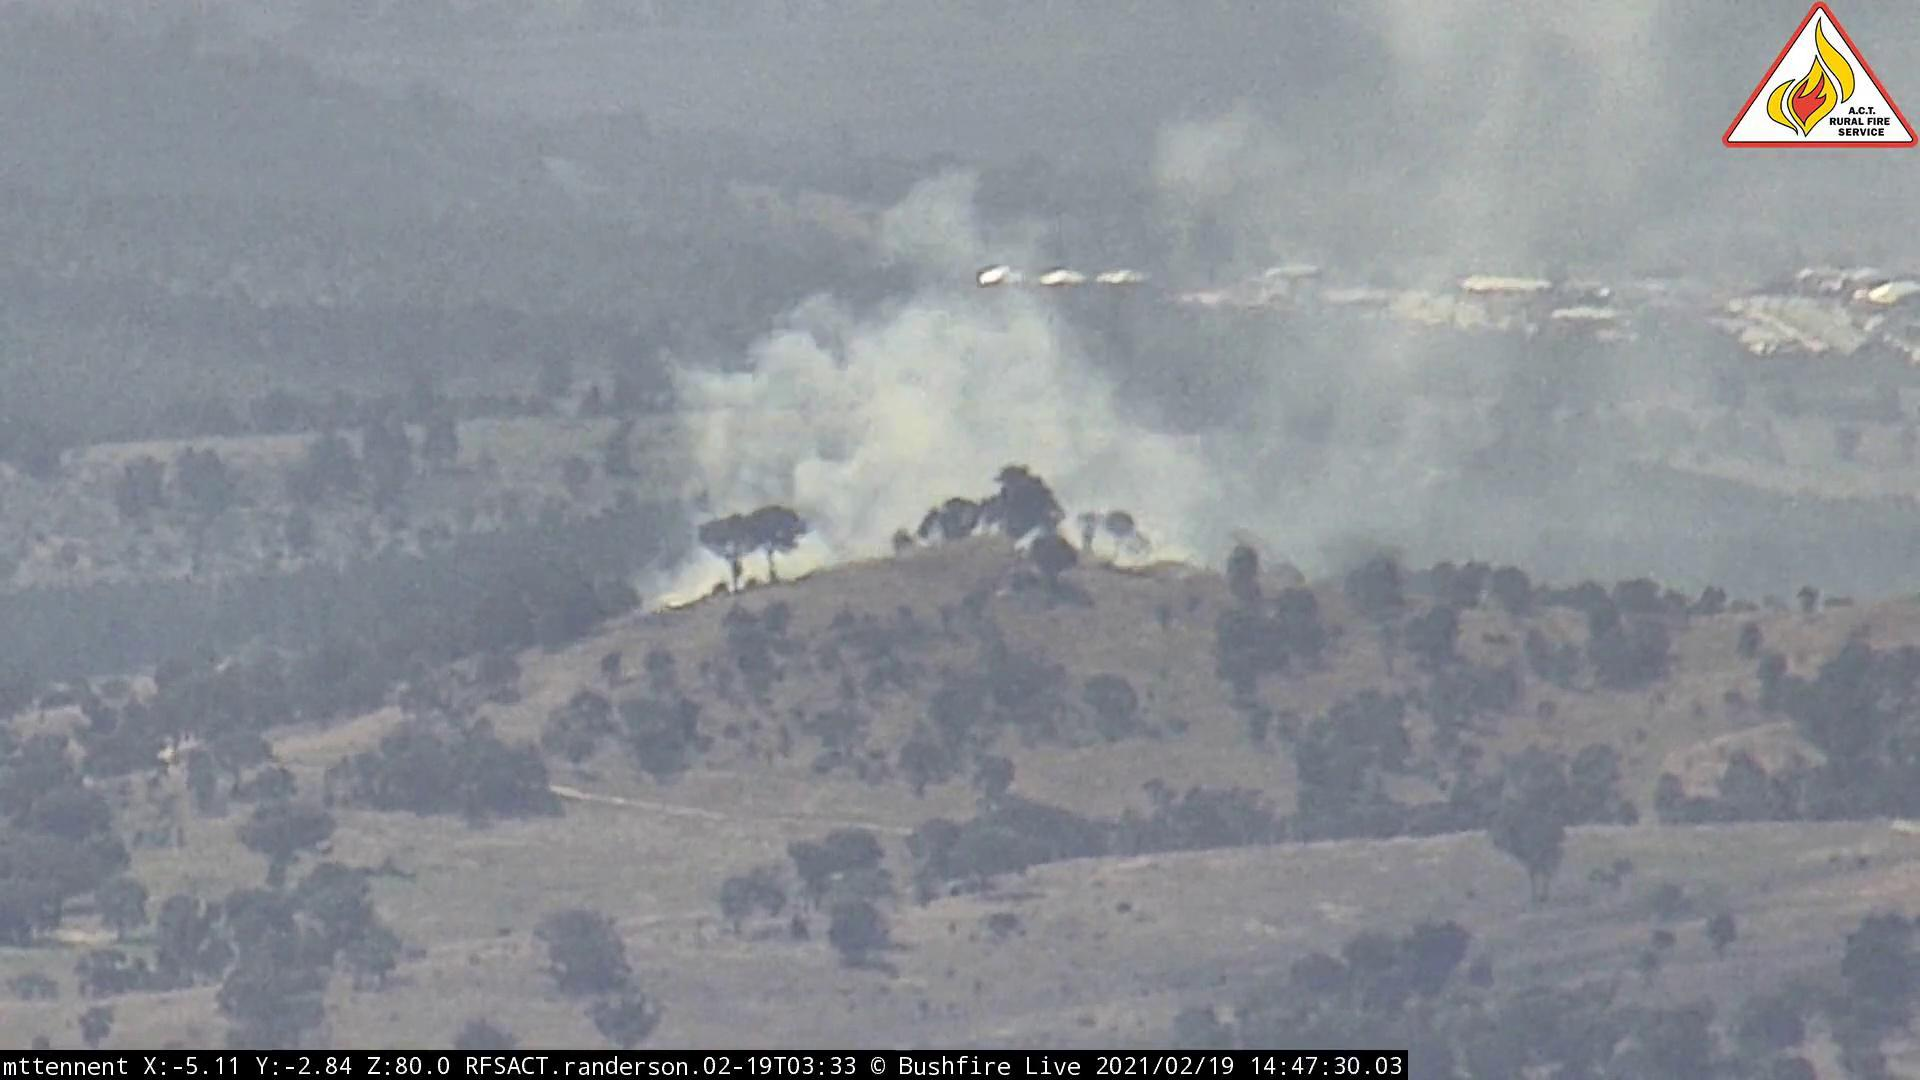instance_salient_object: (626, 5, 1710, 622)
